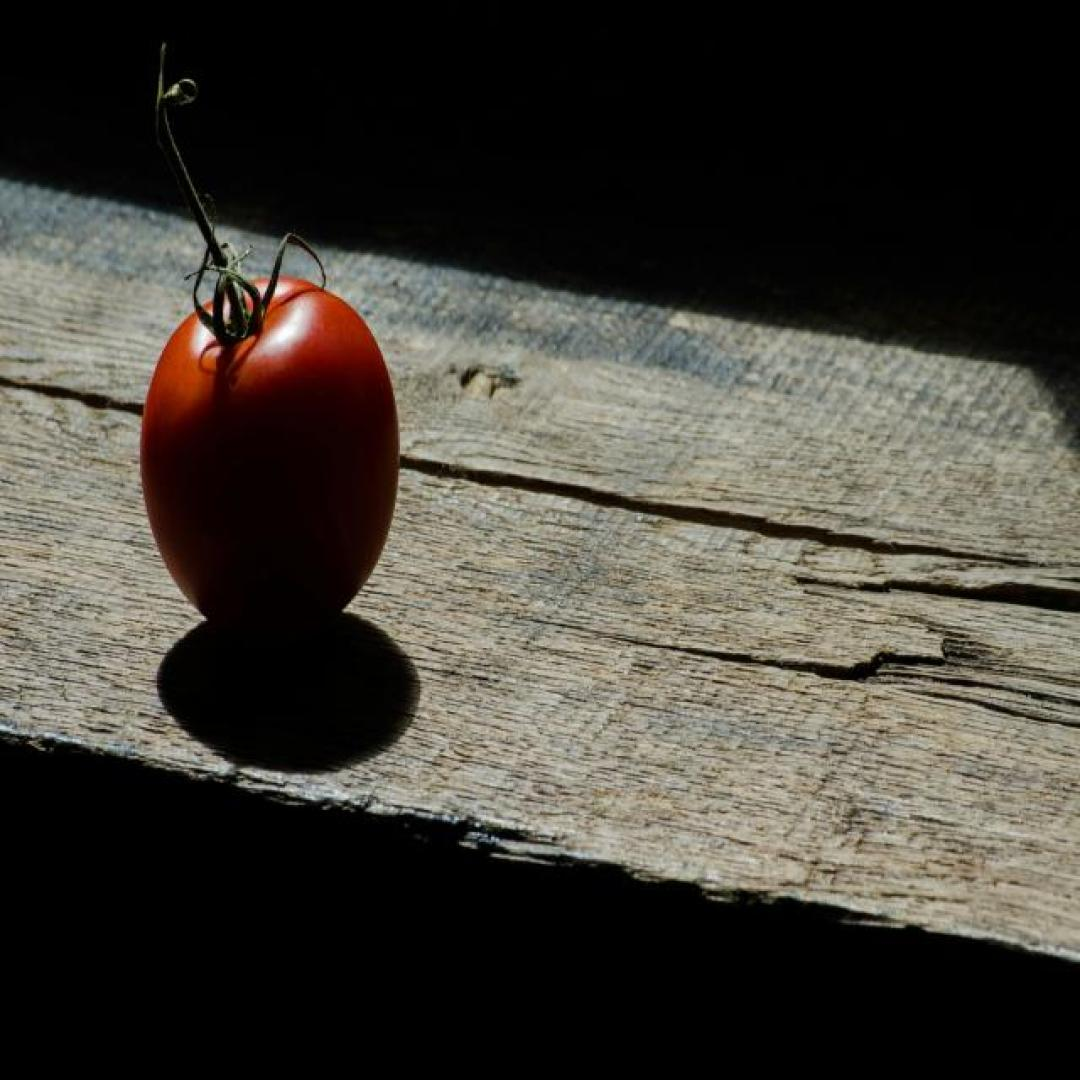matang: (140, 280, 403, 640)
